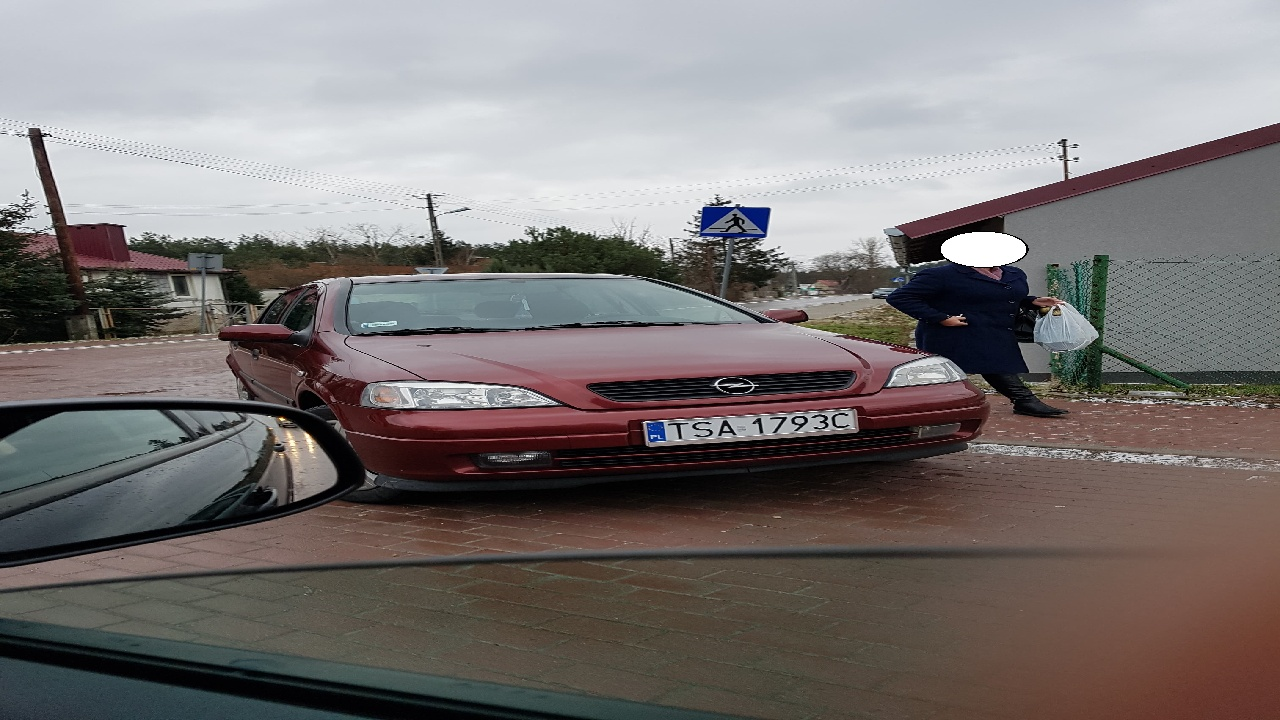D6: (694, 200, 771, 244)
